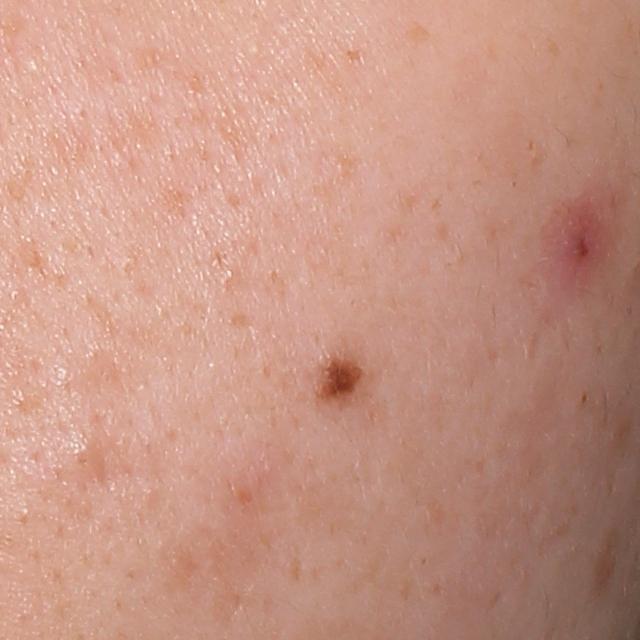comedo: (63, 429, 105, 478)
melasma: (397, 18, 432, 49), (347, 47, 366, 66)
nevus: (316, 345, 376, 402)
